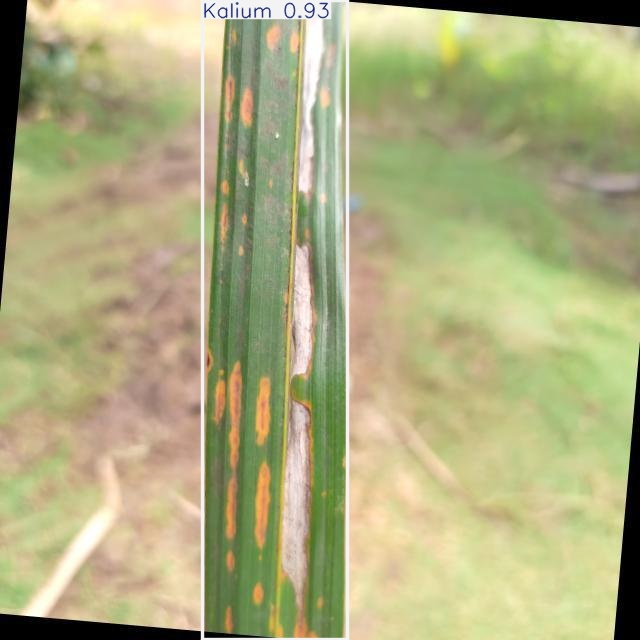Kalium: (202, 0, 348, 639)
